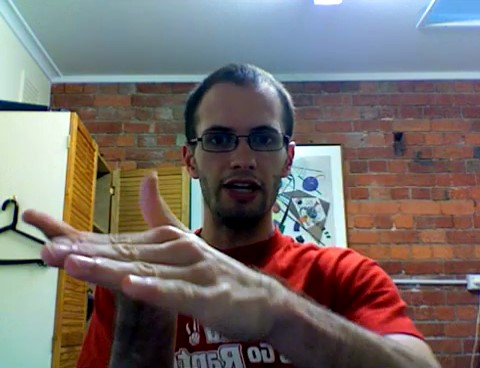H: (18, 167, 303, 355)
